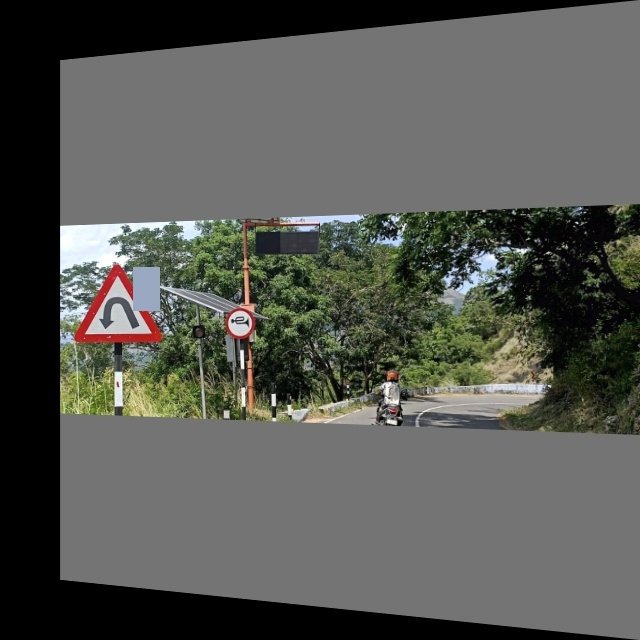Left_Hair_Pin_Bend: (74, 259, 165, 347)
